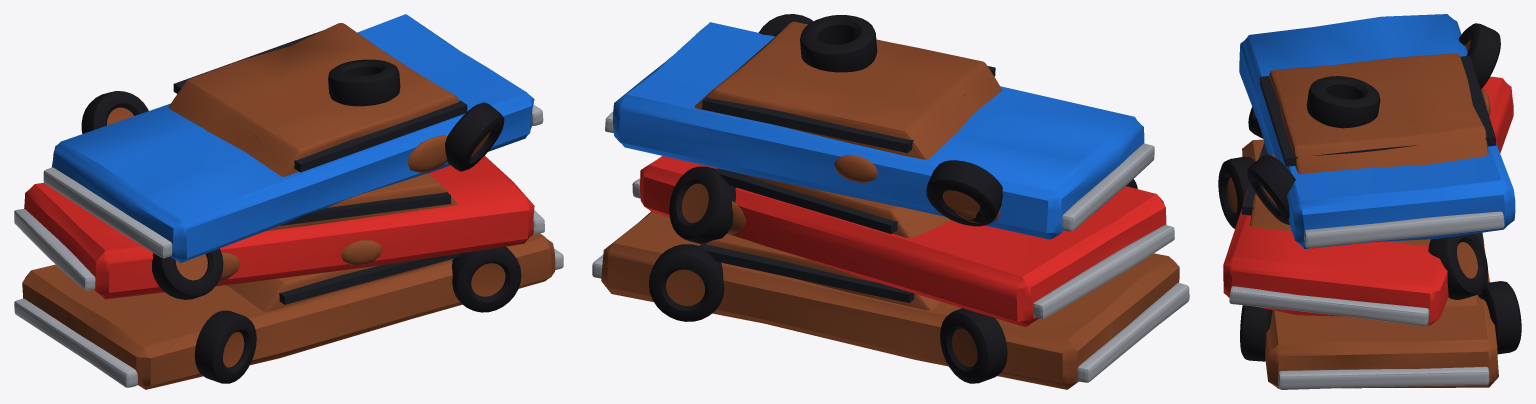
Rendered from A_CarPile.fbx.
3 renders of one model, left to right at view 1: azimuth 30°, elevation 25°; view 2: azimuth 150°, elevation 25°; view 3: azimuth 270°, elevation 25°, orthographic. The views are drawn at different scales.
Parts seen in each view (by area): view 1: Rust, Blue, Accent.003, Rubber.001, Metal.003, Dark.003; view 2: Rust, Blue, Accent.003, Rubber.001, Metal.003, Dark.003; view 3: Rust, Blue, Accent.003, Rubber.001, Metal.003, Dark.003.
Part boxes in pixels (x1,y1,x2,y2): Rust: (22, 23, 555, 389); Blue: (51, 14, 534, 263); Accent.003: (24, 156, 534, 299); Rubber.001: (81, 59, 521, 383); Metal.003: (14, 104, 563, 387); Dark.003: (173, 30, 467, 304); Rust: (601, 21, 1179, 389); Blue: (613, 22, 1144, 239); Accent.003: (640, 156, 1166, 327); Rubber.001: (649, 14, 1137, 383); Metal.003: (592, 111, 1189, 382); Dark.003: (699, 36, 995, 302); Rust: (1228, 40, 1498, 388); Blue: (1239, 14, 1515, 248); Accent.003: (1223, 76, 1513, 325); Rubber.001: (1218, 23, 1521, 361); Metal.003: (1229, 211, 1504, 389); Dark.003: (1241, 55, 1496, 294).
Size of the model in its own units: 12 by 5.7 by 6.71.
